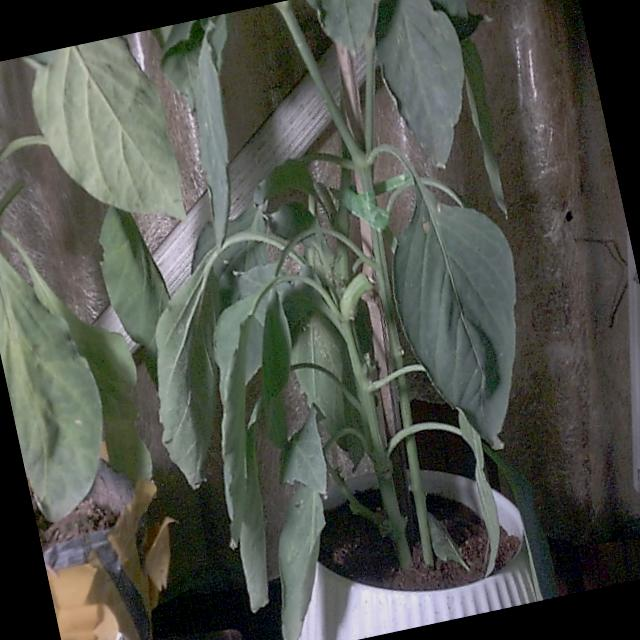Leaf: (393, 192, 515, 440), (32, 37, 184, 219), (0, 254, 101, 520), (376, 0, 463, 166), (99, 207, 168, 364), (461, 38, 506, 215), (278, 485, 324, 639), (280, 407, 326, 494), (307, 0, 375, 52)
